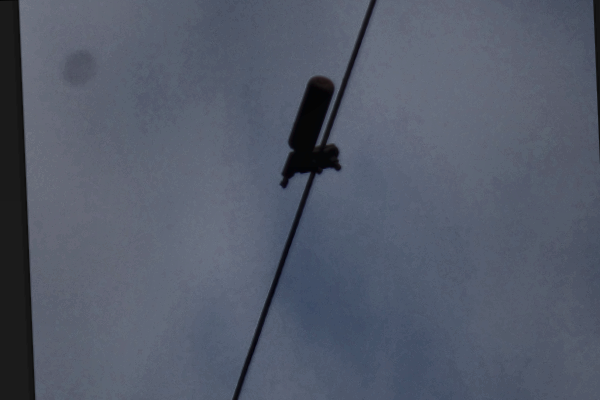damper_defect: (271, 73, 348, 194)
